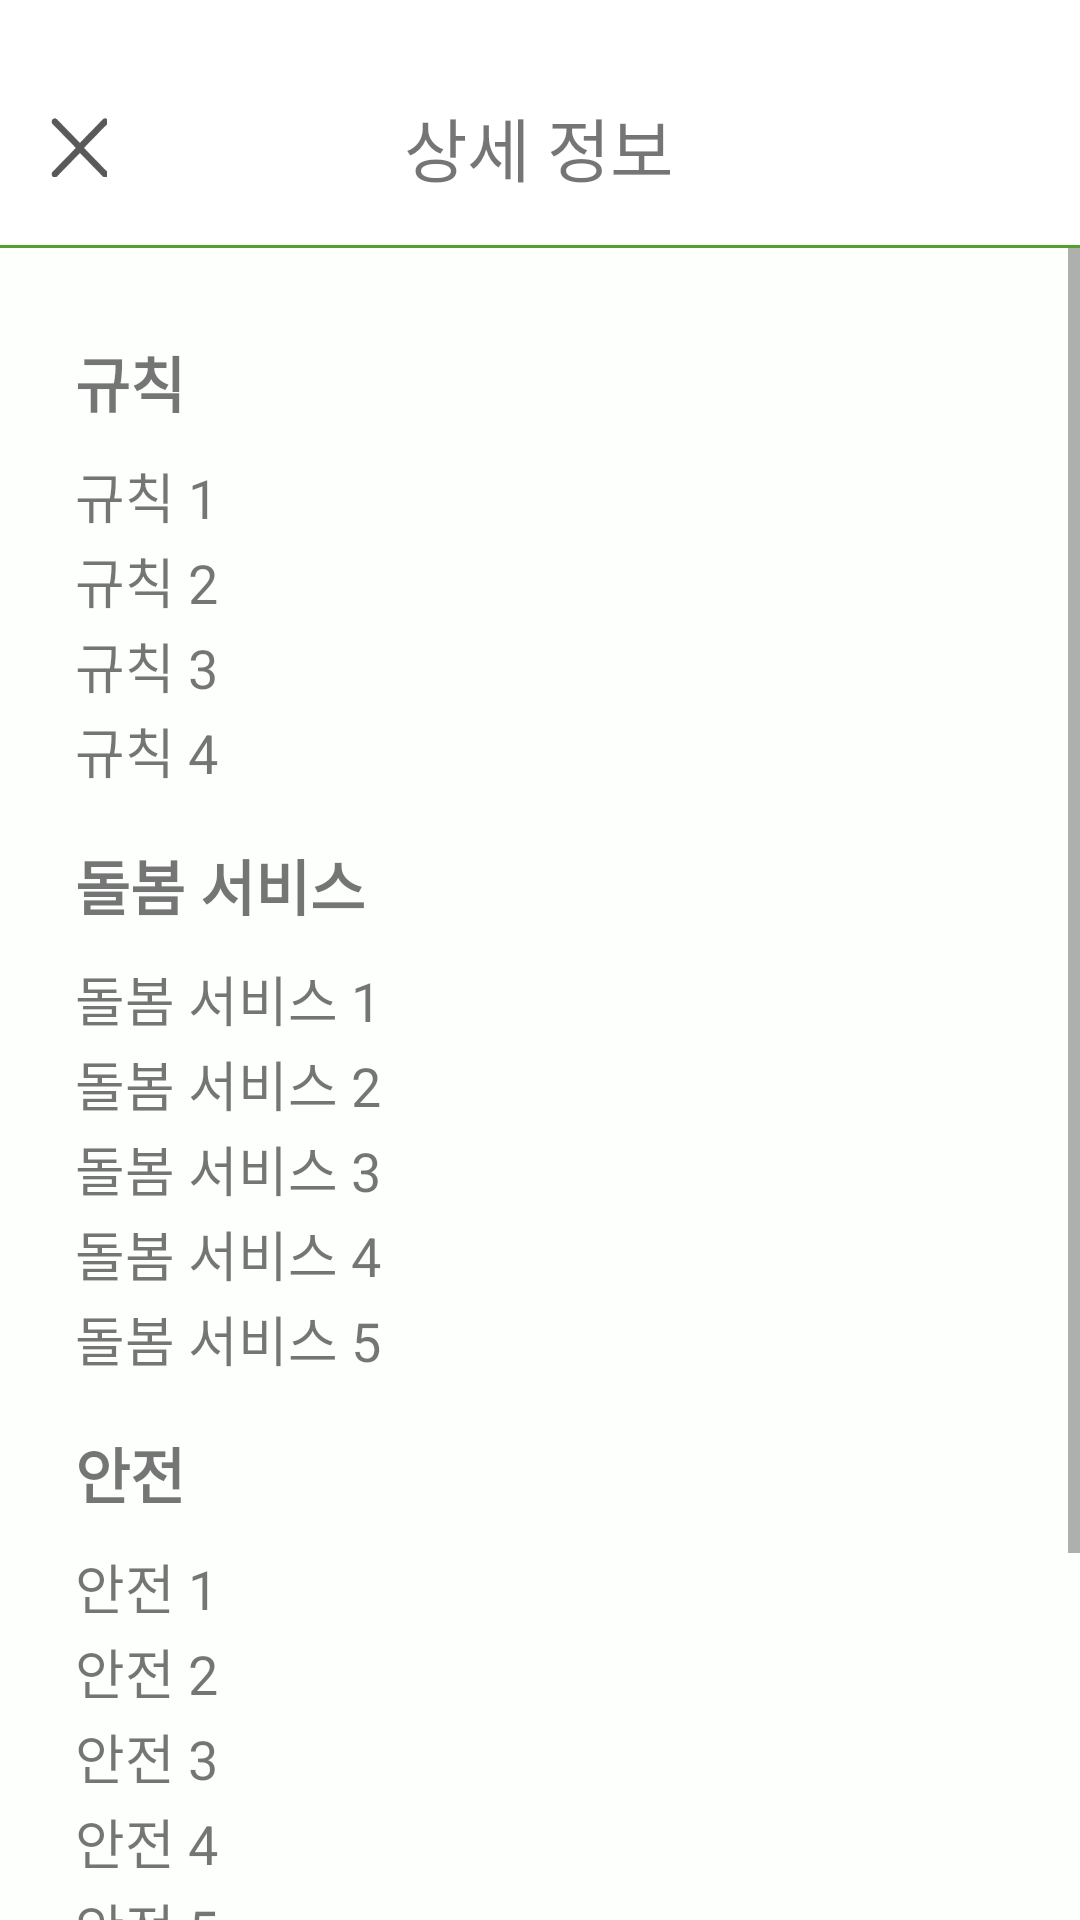

Icon bounding boxes for this 1080px x 1920px phone screenshot, format [x1=x1, y1=y1, x2=x2, y2=y2]:
esc: [x1=51, y1=118, x2=107, y2=177]
